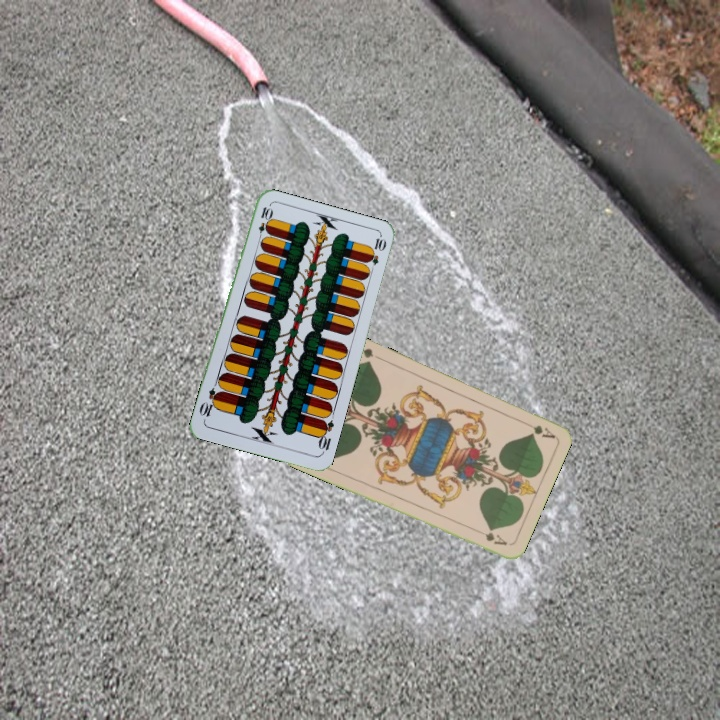E10: (314, 416, 336, 456), (254, 203, 273, 243)
GA: (519, 418, 557, 441)
